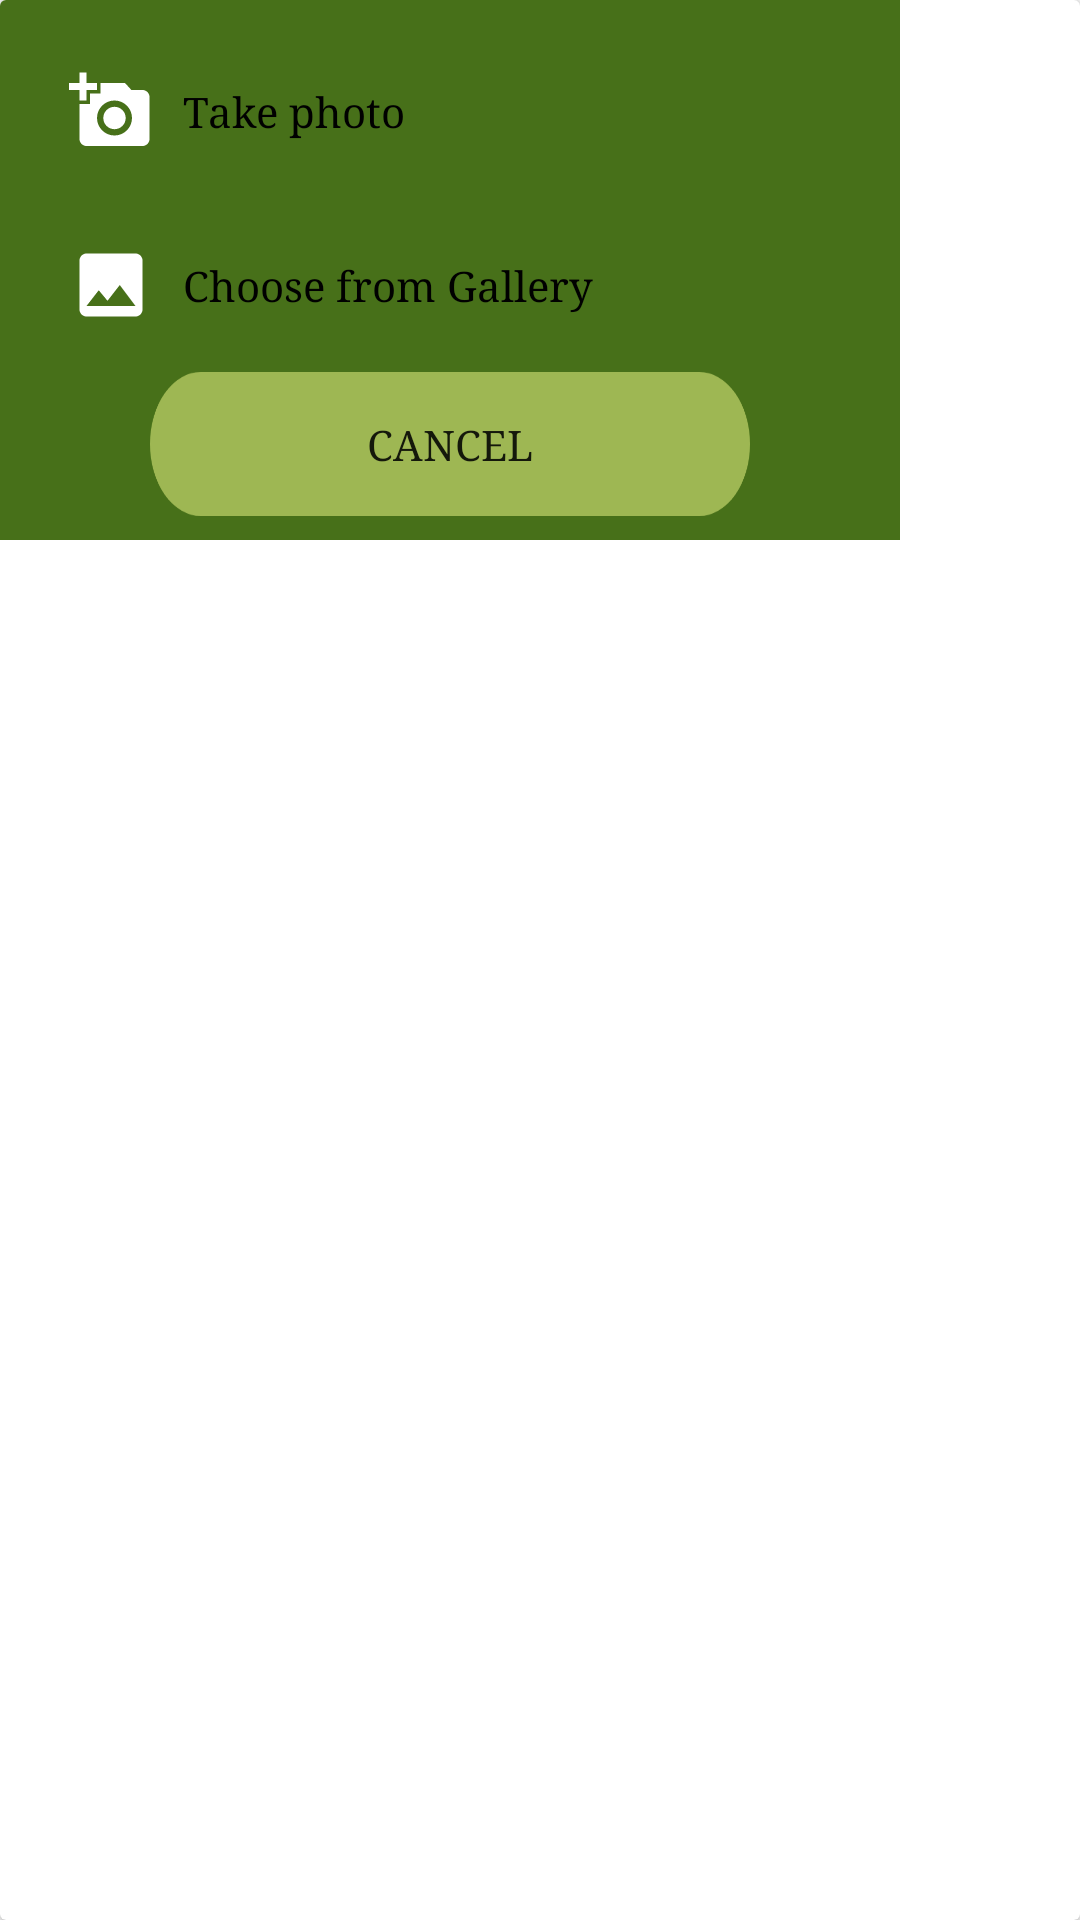

Icon bounding boxes for this 1080x1920 phone screenshot, format (x1, y1, x2, y2):
Capture new image: (69, 72, 150, 146)
Select an existing image: (79, 253, 143, 317)
